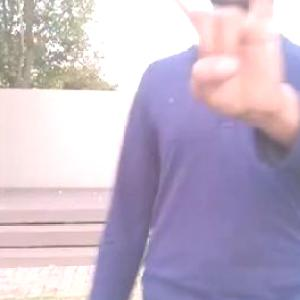takeoff-hand: (150, 0, 292, 117)
